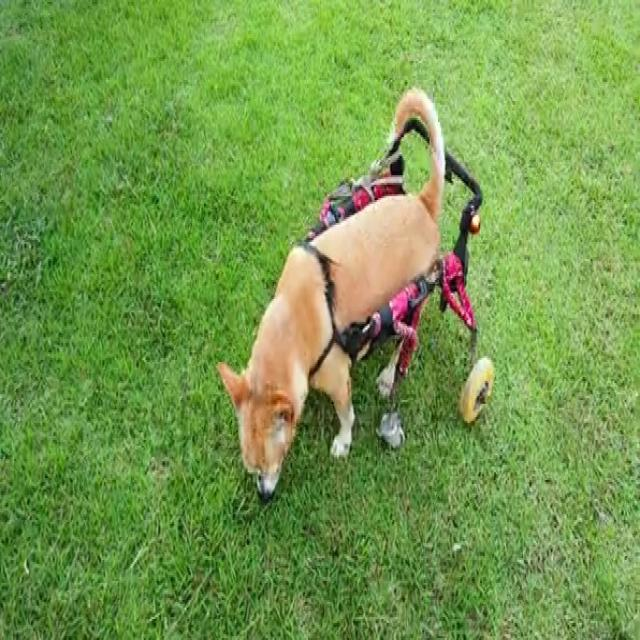injured-animals: (213, 82, 493, 507)
